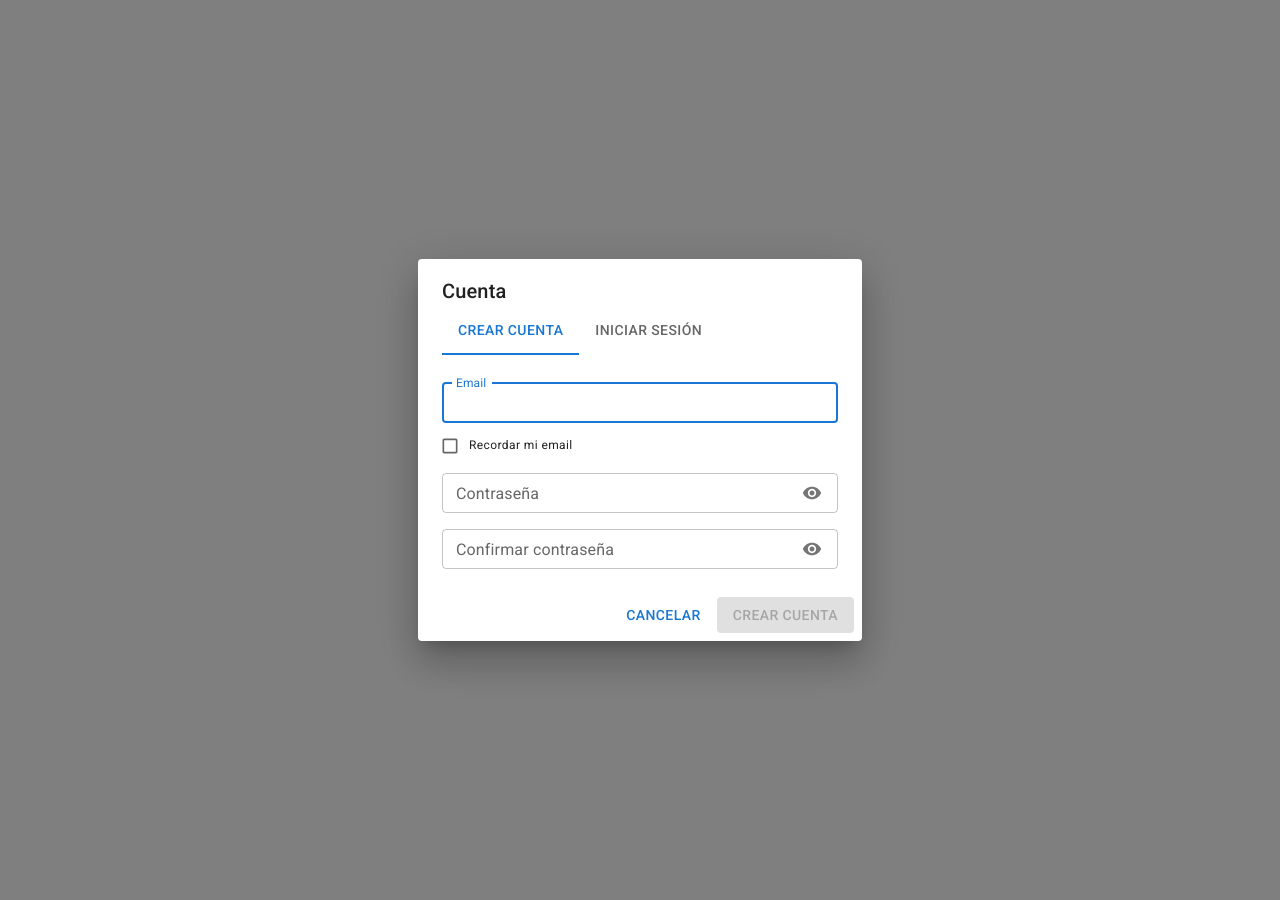
Scenario: EmailPasswordDialog › switches to login tab
Click the tab "Iniciar sesión".
click(649, 331)  # box [579,307,718,355]
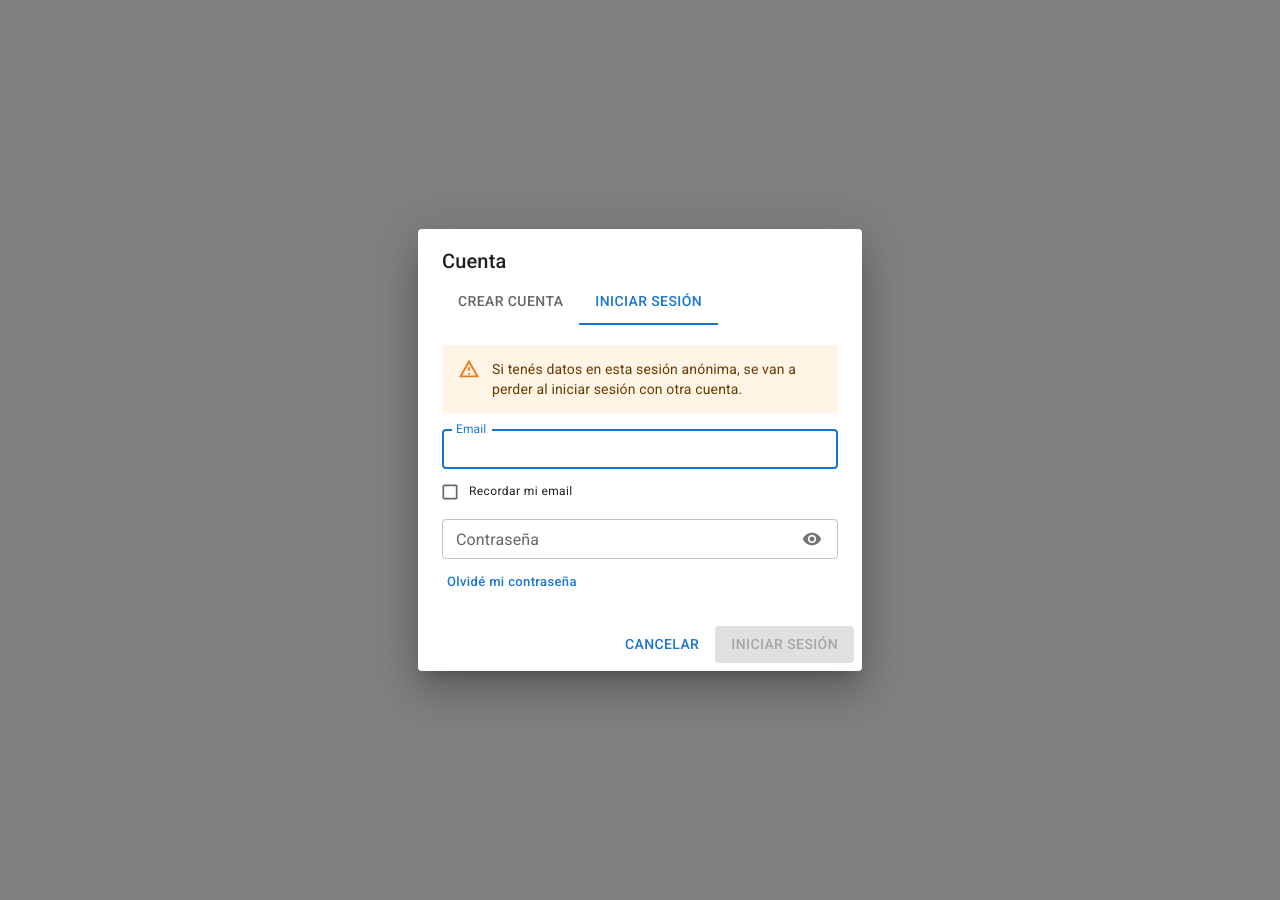
Expected: the label labelled "Confirmar contraseña" is gone
